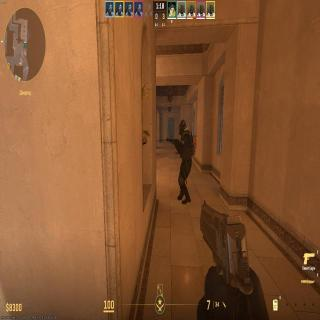CT-Body: (173, 120, 193, 194)
CT-Head: (180, 120, 186, 133)
